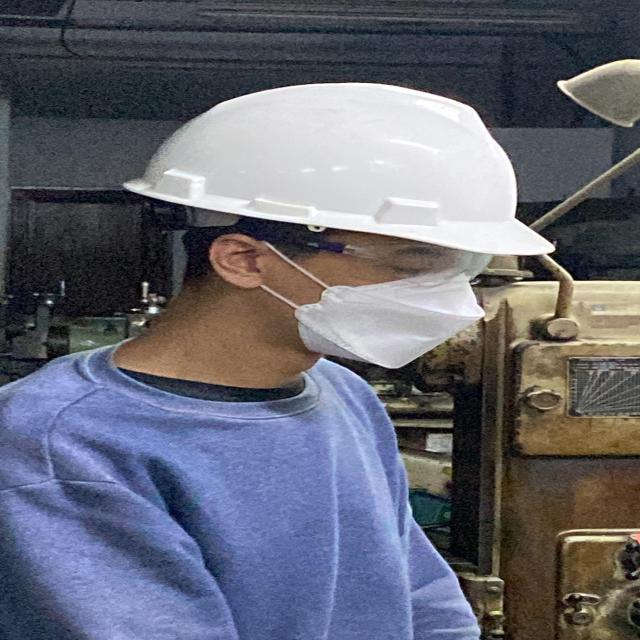glasses: (280, 234, 502, 286)
